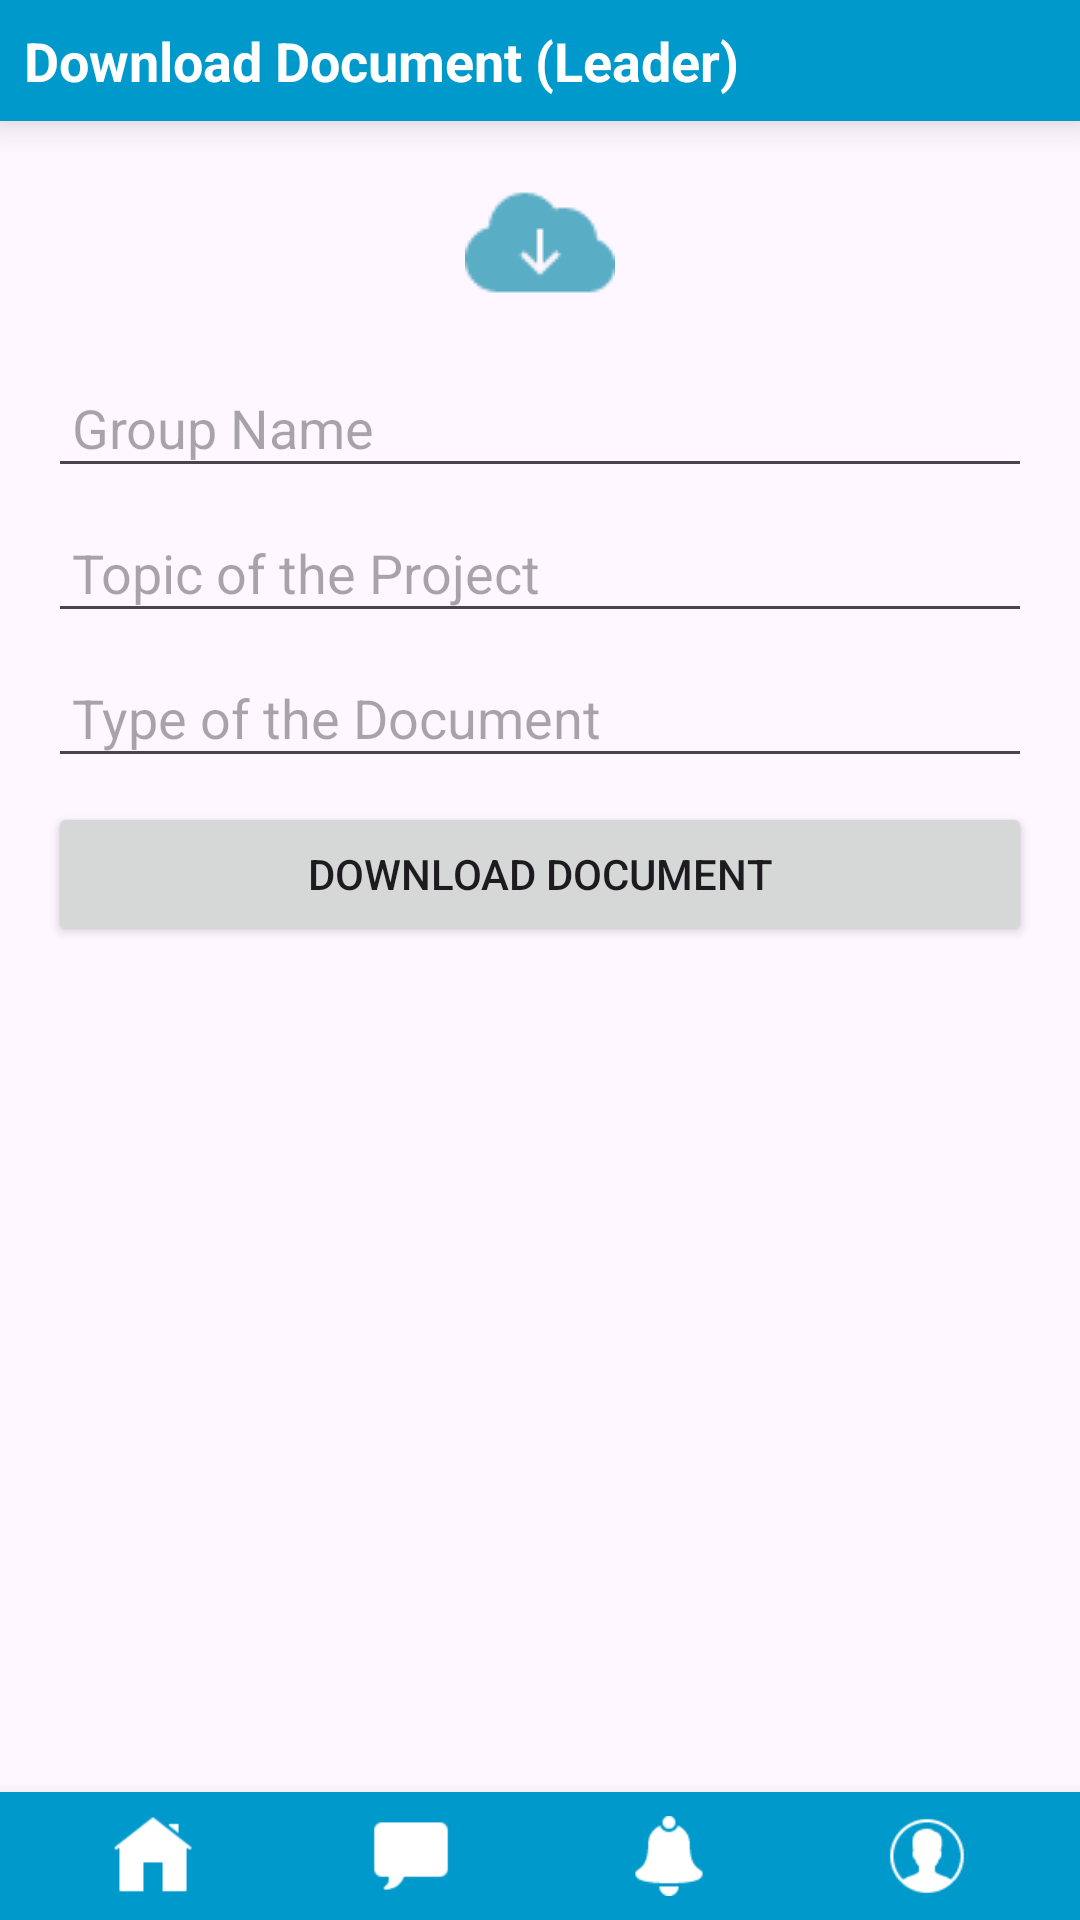

Where icons sit on this 1080 × 1920 app screen, as (x1, y1, x2, y2):
chat: (374, 1822, 448, 1890)
home: (114, 1817, 192, 1892)
noti: (635, 1816, 703, 1896)
profile: (890, 1819, 964, 1893)
